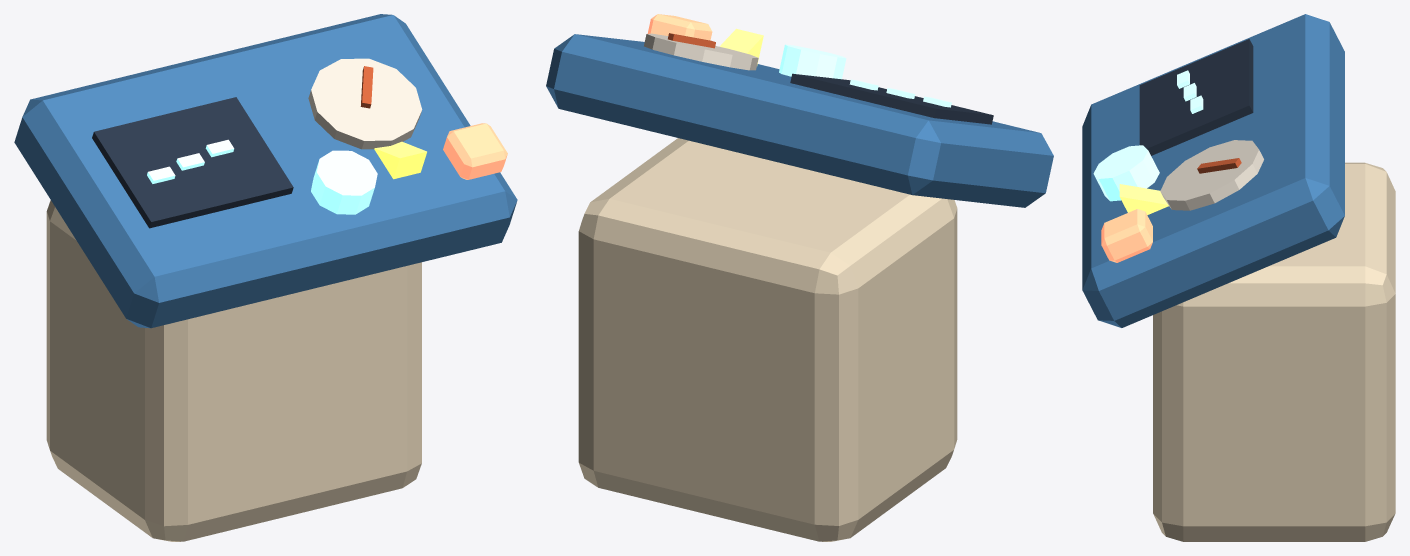
File: MOONSHIFT_AIR_Air_Regulator.glb
3 views of the same model, side by side, from view 1: azimuth 30°, elevation 25°; view 2: azimuth 150°, elevation 25°; view 3: azimuth 270°, elevation 25° (orthographic). The views are drawn at different scales.
Visible parts, largest first — view 1: Reg_Pedestal, Reg_Console, Reg_Screen, Reg_Dial, Reg_BtnCircle, Reg_BtnSquare, Reg_BtnTriangle; view 2: Reg_Pedestal, Reg_Console, Reg_Screen, Reg_Dial, Reg_BtnCircle, Reg_BtnSquare, Reg_BtnTriangle; view 3: Reg_Pedestal, Reg_Console, Reg_Screen, Reg_Dial, Reg_BtnCircle, Reg_BtnSquare, Reg_BtnTriangle, Reg_Needle.
Part boxes in pixels (bbox=[...]): Reg_Pedestal: bbox=[46, 200, 421, 541]; Reg_Console: bbox=[14, 14, 517, 328]; Reg_Screen: bbox=[92, 97, 293, 228]; Reg_Dial: bbox=[308, 58, 422, 149]; Reg_BtnCircle: bbox=[311, 150, 377, 214]; Reg_BtnSquare: bbox=[443, 123, 507, 179]; Reg_BtnTriangle: bbox=[374, 141, 426, 179]; Reg_Pedestal: bbox=[578, 138, 957, 541]; Reg_Console: bbox=[546, 34, 1053, 207]; Reg_Screen: bbox=[790, 73, 993, 124]; Reg_Dial: bbox=[644, 33, 758, 70]; Reg_BtnCircle: bbox=[779, 44, 846, 79]; Reg_BtnSquare: bbox=[647, 14, 712, 40]; Reg_BtnTriangle: bbox=[720, 28, 763, 65]; Reg_Pedestal: bbox=[1153, 162, 1395, 541]; Reg_Console: bbox=[1082, 14, 1344, 327]; Reg_Screen: bbox=[1139, 39, 1253, 155]; Reg_Dial: bbox=[1160, 140, 1263, 210]; Reg_BtnCircle: bbox=[1093, 145, 1159, 201]; Reg_BtnSquare: bbox=[1101, 209, 1152, 262]; Reg_BtnTriangle: bbox=[1119, 184, 1168, 214]; Reg_Needle: bbox=[1197, 158, 1241, 173].
Bounding box in the file's own units: 0.7 × 0.7168 × 0.5166.
